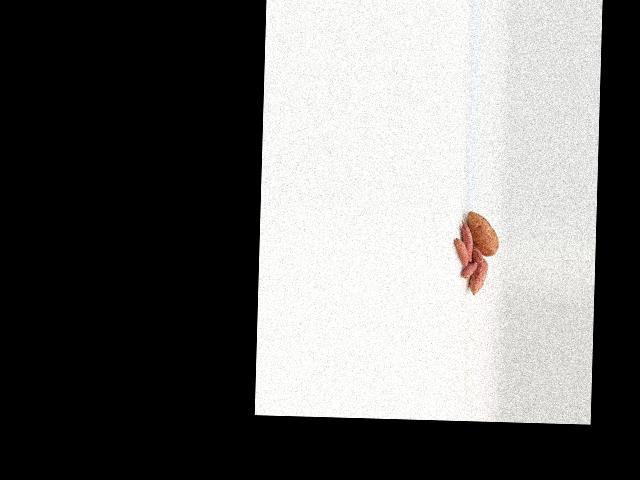sweet_potato: (469, 259, 488, 297)
